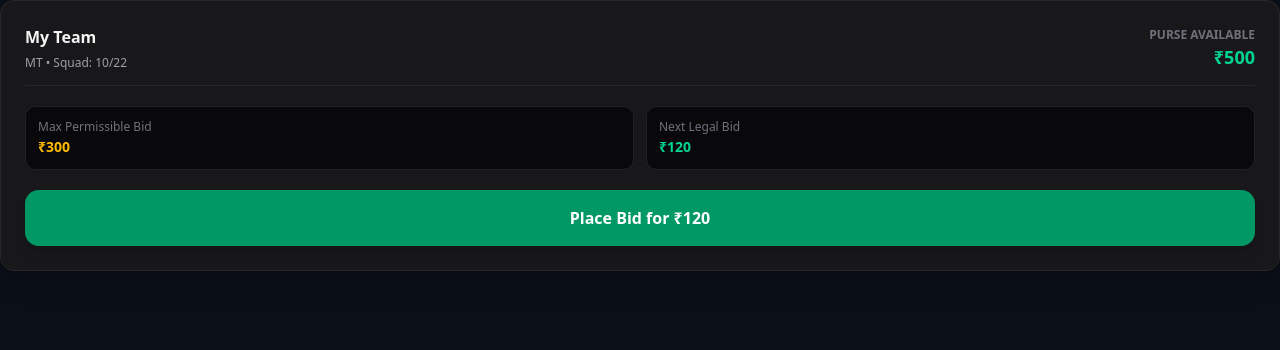
ACC Auction — Critical Latency & Synchronization Hotfix Suite › 2. BiddingControl rolls back provisional pending state immediately when bid is rejected
Note: Click to submit bid
Click the button: (640, 218) x1=25 y1=190 x2=1255 y2=246
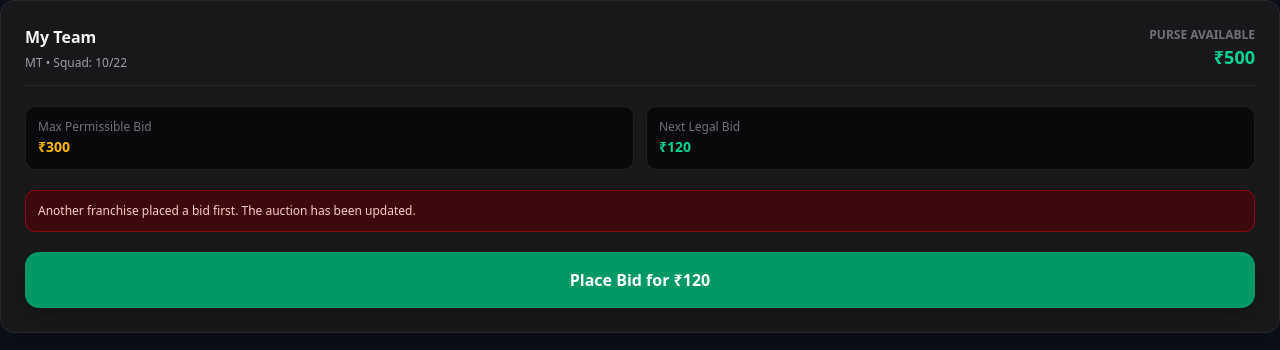
Expected: the button reads "Place Bid for ₹120", x1=25 y1=252 x2=1255 y2=308
Now the text "Another franchise placed a bid first" is shown, box x1=38 y1=202 x2=416 y2=219
